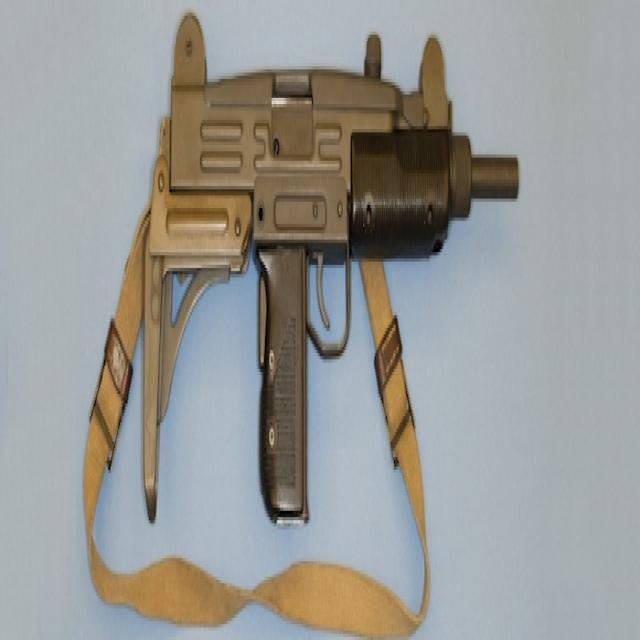SMG: (143, 16, 521, 527)
